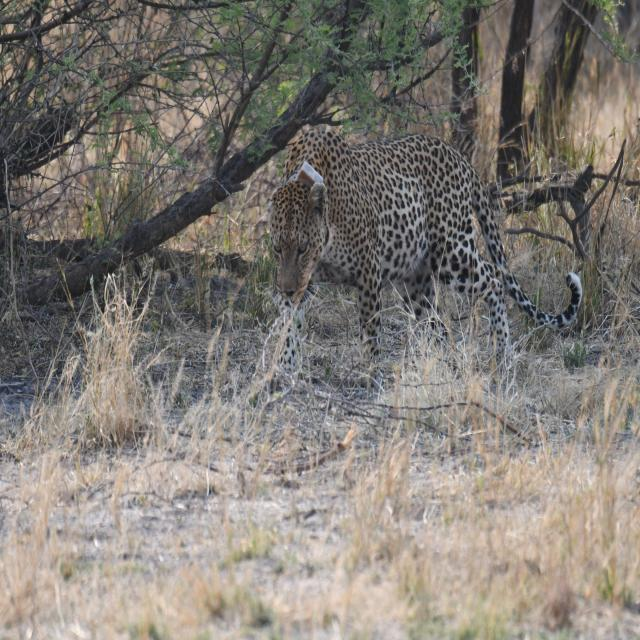Leopard: (249, 135, 589, 385)
